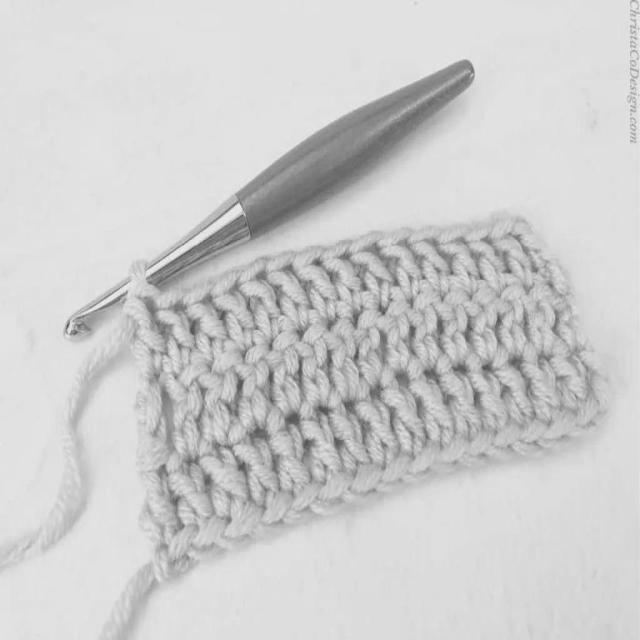ch: (155, 525, 200, 585), (210, 505, 265, 549), (244, 492, 296, 538), (307, 471, 356, 513), (185, 515, 228, 560), (536, 408, 581, 449), (280, 481, 325, 522), (337, 465, 385, 503), (399, 444, 444, 480), (426, 437, 472, 472), (373, 453, 412, 492), (453, 431, 495, 467), (136, 375, 162, 433), (136, 414, 169, 459), (510, 420, 550, 457), (482, 425, 521, 462), (565, 404, 609, 432), (580, 343, 613, 380), (592, 369, 619, 412)
dc: (194, 340, 241, 445), (195, 443, 252, 524), (435, 352, 486, 441), (407, 357, 455, 449), (122, 284, 167, 378), (160, 364, 207, 453), (260, 252, 310, 333), (237, 257, 282, 346), (151, 288, 197, 375), (183, 278, 227, 368), (266, 313, 302, 419), (268, 410, 312, 496), (380, 367, 423, 455), (166, 446, 211, 530), (464, 351, 509, 435), (137, 455, 177, 547), (238, 329, 273, 434), (346, 231, 392, 310), (354, 382, 396, 468), (490, 344, 533, 428), (520, 339, 561, 427), (210, 272, 257, 348), (328, 389, 370, 474), (325, 301, 358, 405), (355, 293, 390, 391), (300, 402, 342, 482), (235, 435, 281, 508), (295, 246, 338, 323), (463, 281, 502, 365), (295, 311, 329, 407), (551, 336, 592, 414), (489, 212, 531, 287), (435, 224, 479, 295), (464, 220, 505, 296), (379, 283, 413, 374), (406, 228, 449, 298), (408, 279, 440, 371), (321, 244, 363, 313), (524, 272, 558, 357), (381, 229, 420, 303), (439, 275, 467, 370), (496, 273, 525, 364)
